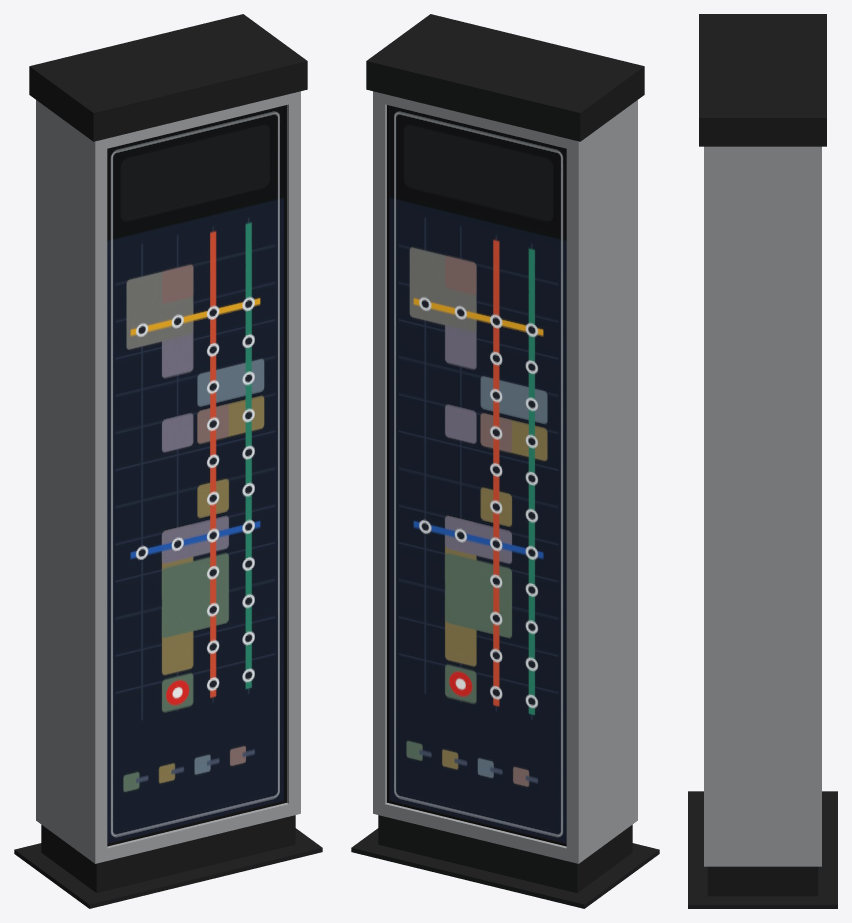
File: gteki_sign_totem_dark.glb
3 renders of one model, left to right at view 1: azimuth 30°, elevation 25°; view 2: azimuth 150°, elevation 25°; view 3: azimuth 270°, elevation 25°, orthographic.
Parts seen in each view (by area): view 1: VIS_body; view 2: VIS_body; view 3: VIS_body.
Part boxes in pixels (bbox=[...]): VIS_body: bbox=[14, 14, 322, 908]; VIS_body: bbox=[351, 14, 659, 908]; VIS_body: bbox=[688, 14, 837, 908].
Size of what is drawn, in the model's own units: 0.68 by 2.2 by 0.38.
2 materials, 2 textured.
